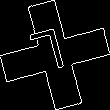L_S: (33, 27, 77, 83)
